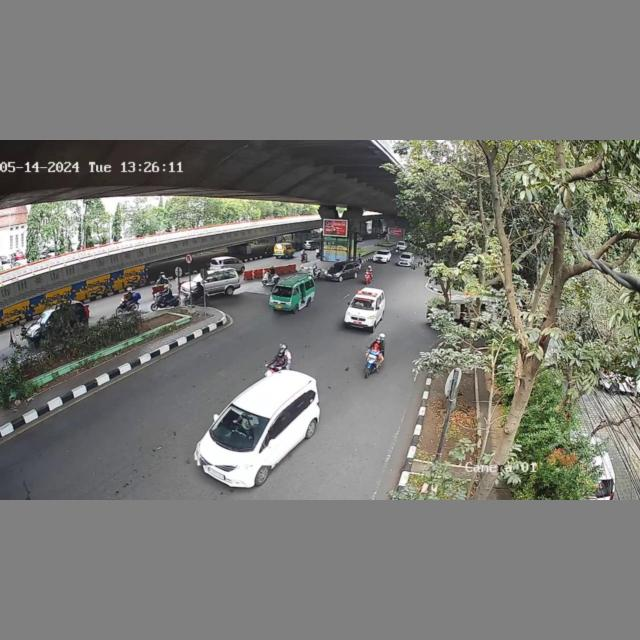windshield: (211, 404, 270, 445), (348, 297, 377, 310), (271, 284, 294, 299)
